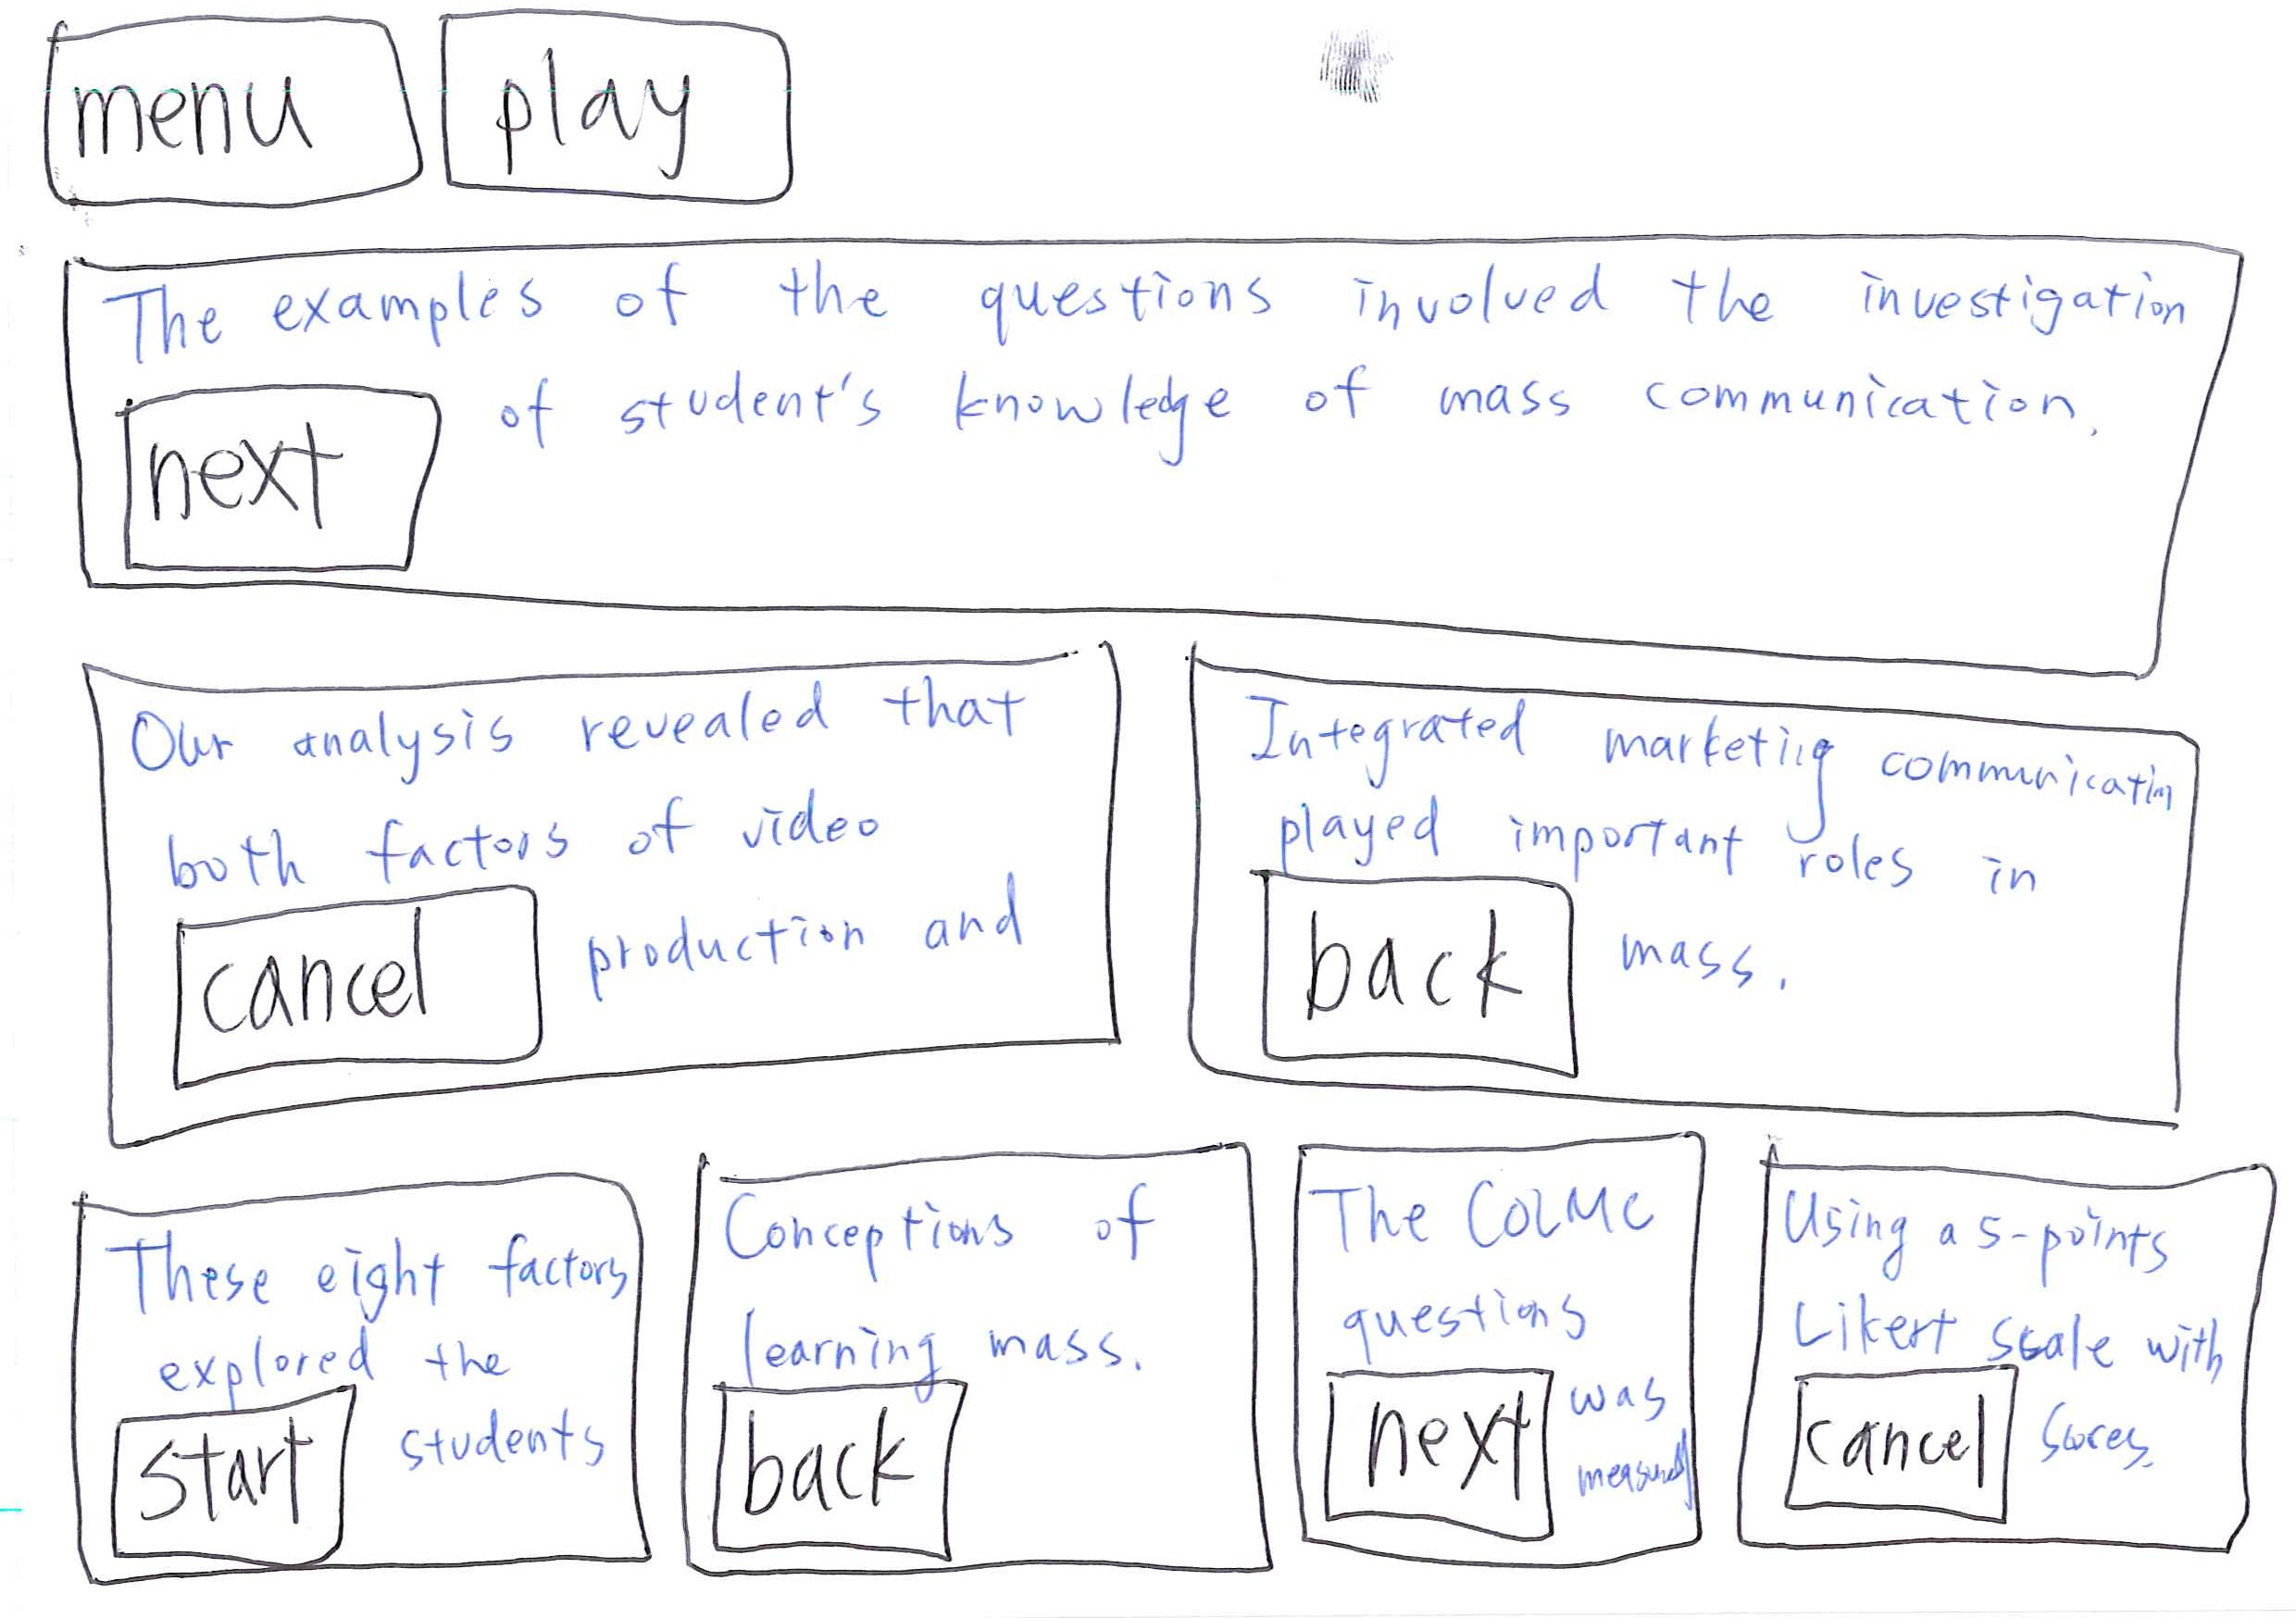back: (1198, 858, 1595, 1084)
cancel: (151, 869, 548, 1119)
double: (1149, 611, 2296, 1156), (37, 625, 1138, 1143)
menu: (2, 2, 431, 217)
next: (93, 357, 503, 634), (687, 1369, 967, 1572), (1312, 1348, 1567, 1564), (1755, 1348, 2042, 1530)
play: (413, 2, 827, 212)
quadruple: (657, 1105, 1282, 1618), (21, 1136, 685, 1606), (1694, 1114, 2296, 1578), (1271, 1119, 1739, 1600)
row: (2, 639, 2275, 1171), (21, 208, 2296, 739), (21, 1087, 2296, 1618), (21, 2, 2296, 233)
single: (33, 229, 2296, 741)
small-title: (110, 270, 2193, 352), (1242, 702, 2187, 865), (126, 679, 1042, 762), (1305, 1161, 1660, 1354), (1774, 1194, 2205, 1306), (713, 1189, 1215, 1278), (123, 1221, 636, 1306)
start: (107, 1396, 396, 1590)
text: (515, 347, 2144, 487), (151, 758, 961, 870), (585, 895, 1053, 995), (1629, 916, 1911, 1054), (727, 1278, 1112, 1378), (2033, 1312, 2235, 1487), (91, 1305, 573, 1371), (1786, 1285, 2201, 1350), (1573, 1369, 1687, 1515)
